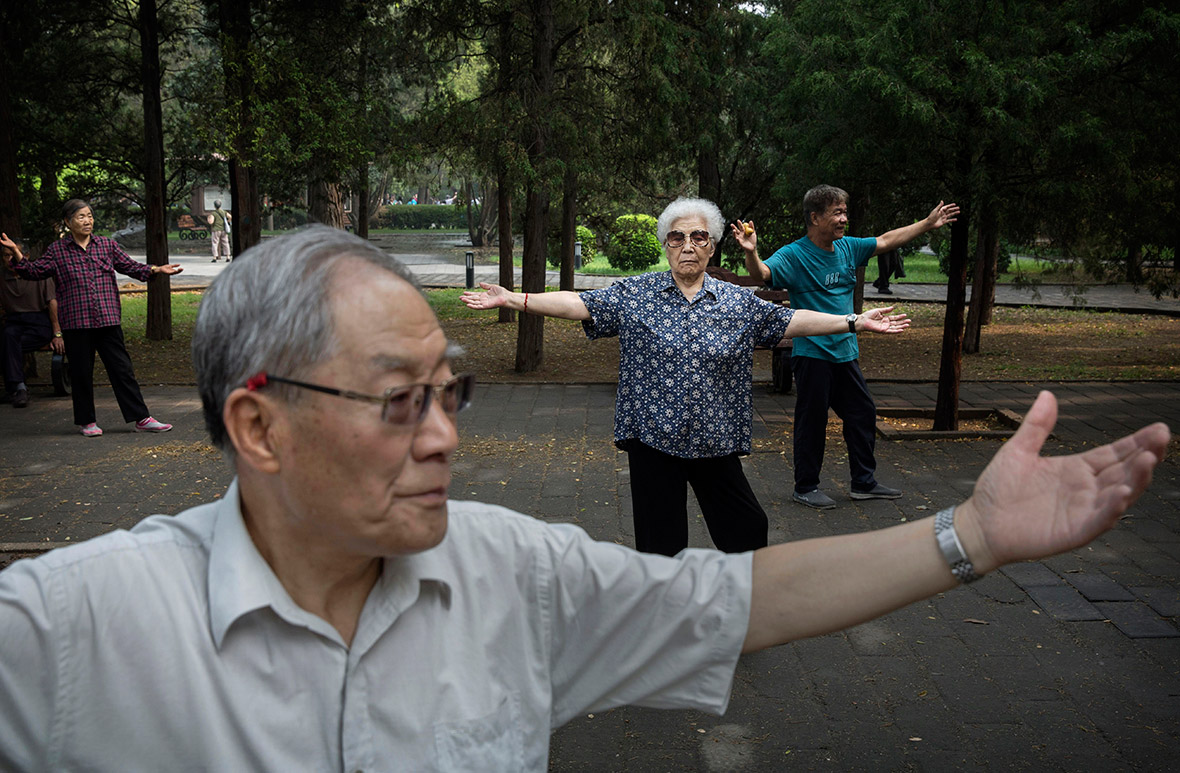Person: (1, 224, 1171, 773), (460, 199, 912, 555), (731, 184, 962, 508), (1, 197, 183, 437), (207, 199, 232, 264)
